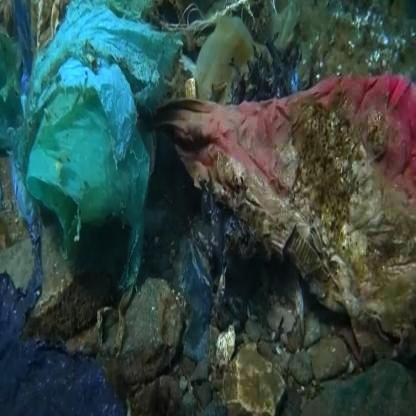plastic: (206, 118, 416, 365), (32, 58, 219, 241)
